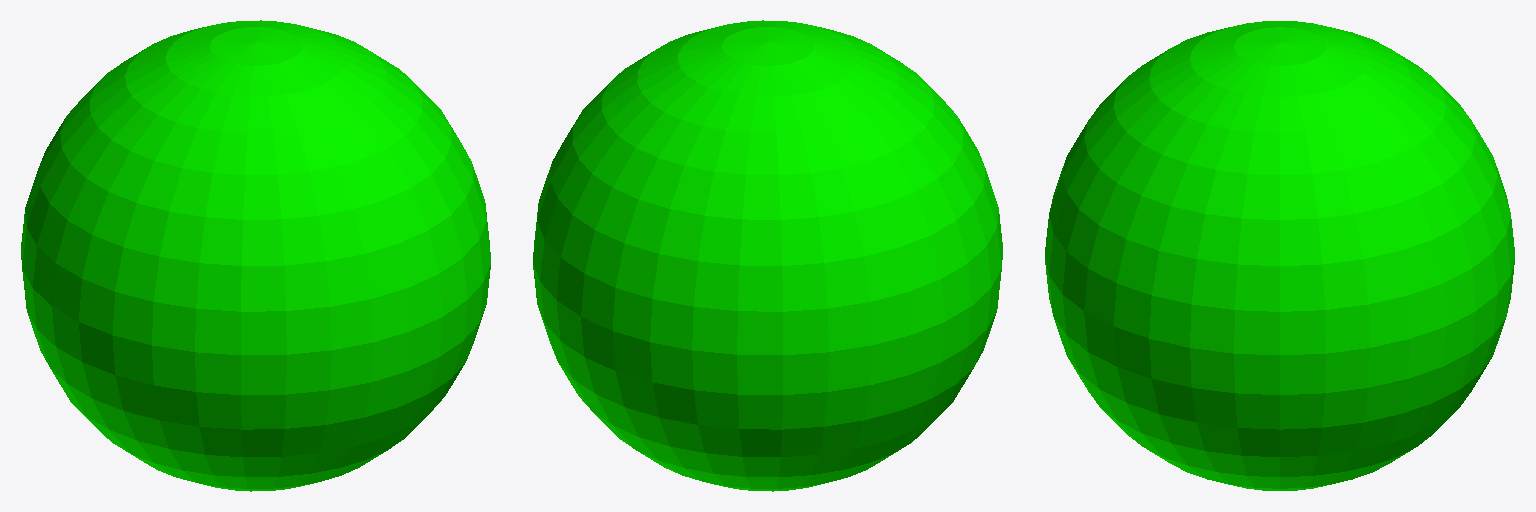
robot.urdf — apple:
<?xml version="0.0" ?>
<robot name="apple">
  <link name="base_link">
    <inertial>
      <mass value="1"/>
      <inertia ixx="1" ixy="0" ixz="0" iyy="1" iyz="0" izz="1"/>
    </inertial>
    <visual>
      <geometry>
        <sphere radius="0.5"/>
      </geometry>
      <material name="green">
        <color rgba="0.05 0.95 0 1.0"/>
      </material>
      <origin xyz="0 0 0.5"/>
    </visual>
  </link>
</robot>

--- Render facts (derived) ---
Views: 3 orthographic renders of the robot side by side, from view 1: azimuth 30°, elevation 25°; view 2: azimuth 150°, elevation 25°; view 3: azimuth 270°, elevation 25°.
Robot: apple — 1 links, 0 joints (none); root link base_link; default pose: every joint at zero.
Links seen in each view (by area): view 1: base_link; view 2: base_link; view 3: base_link.
Link boxes in pixels (left/top/right/bottom): base_link: left=21, top=20, right=490, bottom=491; base_link: left=533, top=20, right=1002, bottom=491; base_link: left=1045, top=21, right=1514, bottom=490.
Size in the robot's own frame: 1 by 1 by 1 metres.
Geometry: primitives only (box / cylinder / sphere), no mesh files.